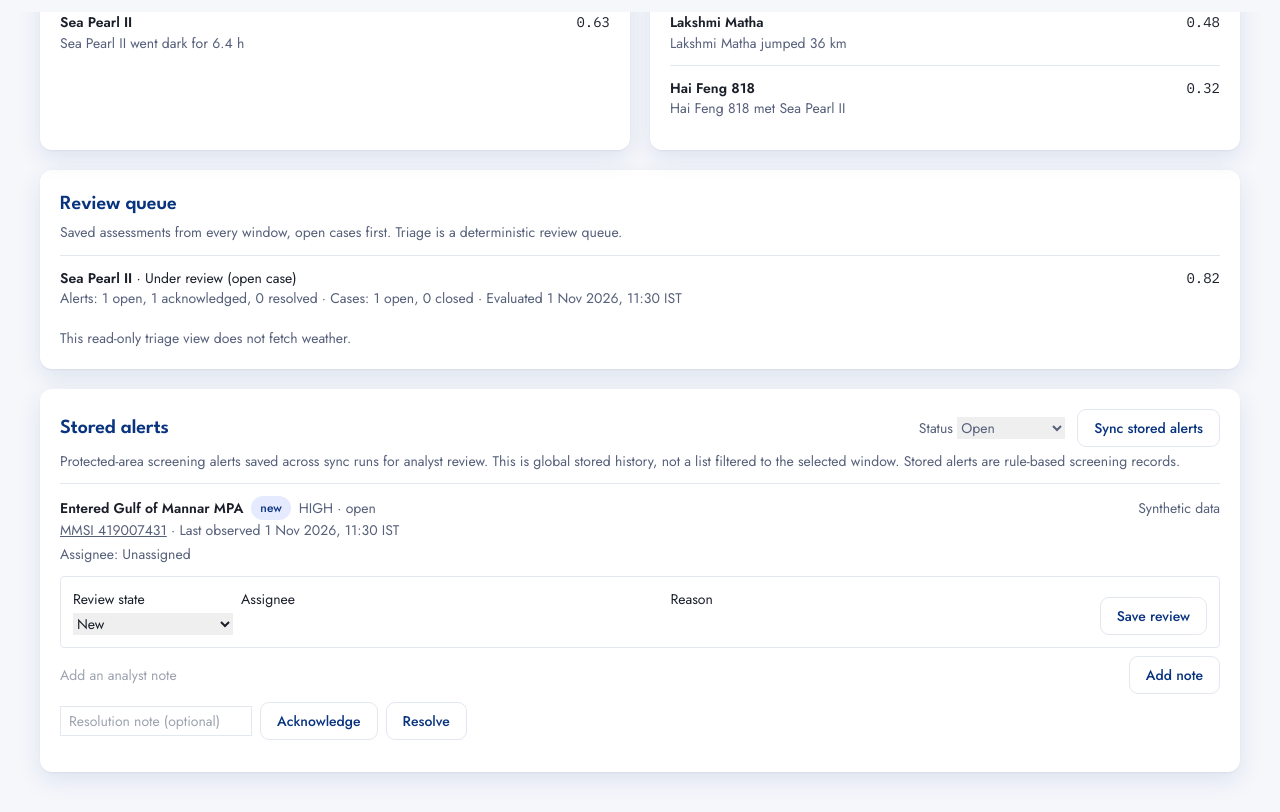
Test case: stored alert lifecycle and triage › does not show old reviewers on a reopened alert, and clears the last message when the filter changes
(page scrolled)
Click the button with aria-label "Acknowledge Entered Gulf of Mannar MPA (MMSI 419007431)" at coordinates (319, 721), box [260,702,378,740]
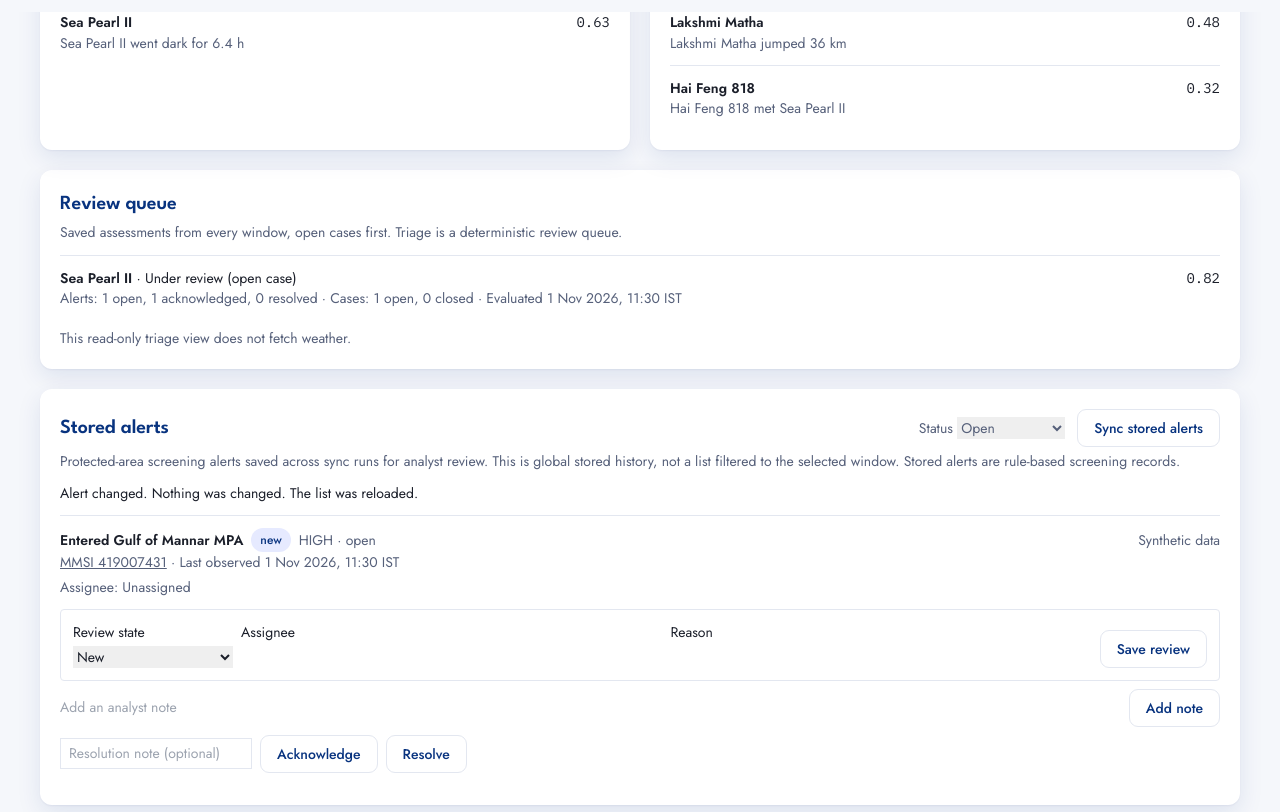
Now the message "Alert changed. Nothing was changed. The list was reloaded." is shown, box [60,483,418,503]
Select "Resolved" in the dropdown labelled "Status" at coordinates (1011, 428), box [957,417,1065,439]
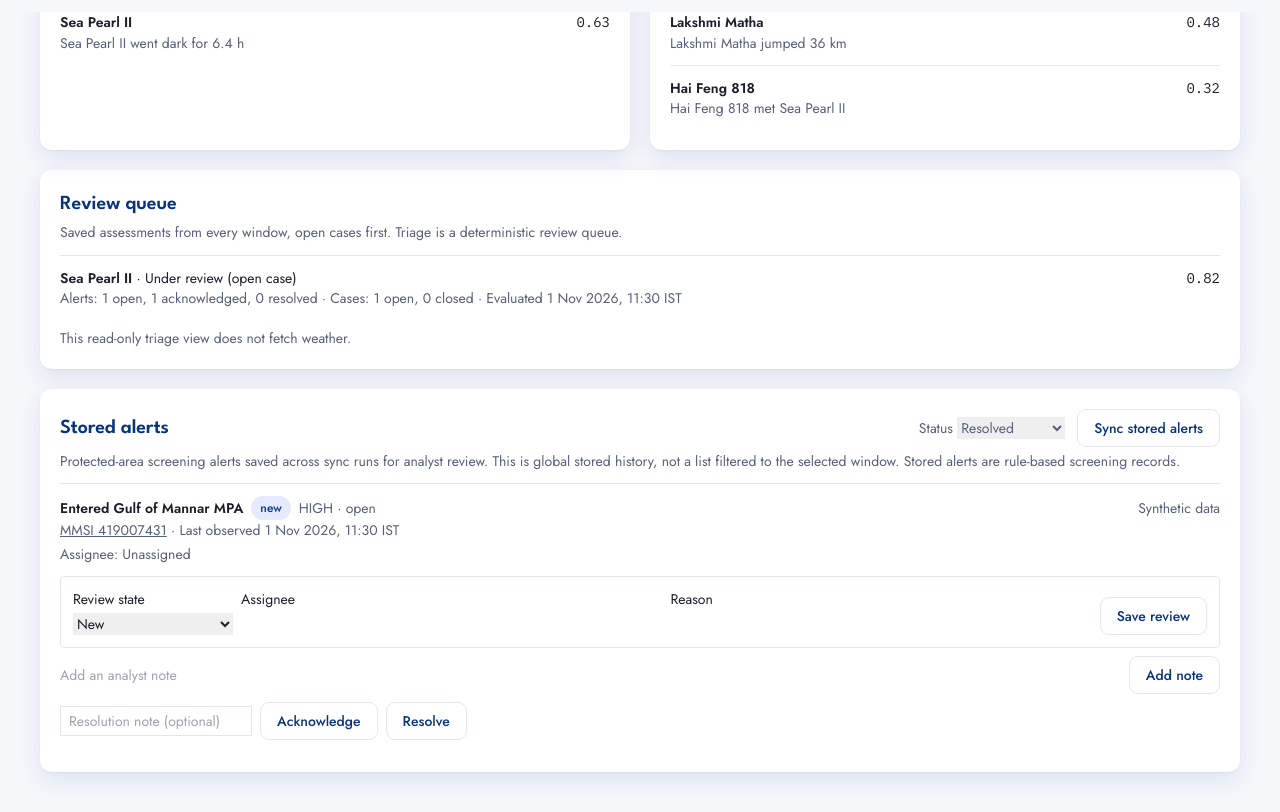
Now the message "Alert changed. Nothing was changed. The list was reloaded." is gone
